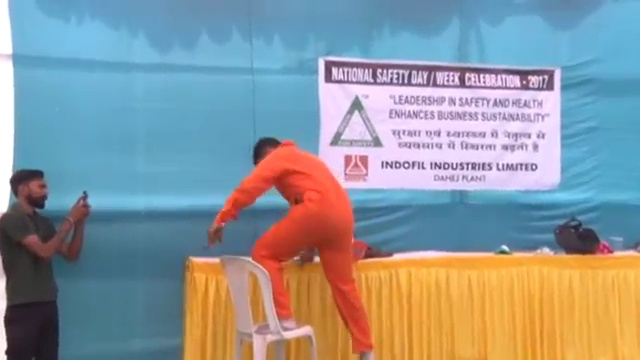helmet_off: (9, 169, 49, 212), (251, 133, 282, 165)
person: (208, 134, 378, 359), (1, 169, 91, 360)
